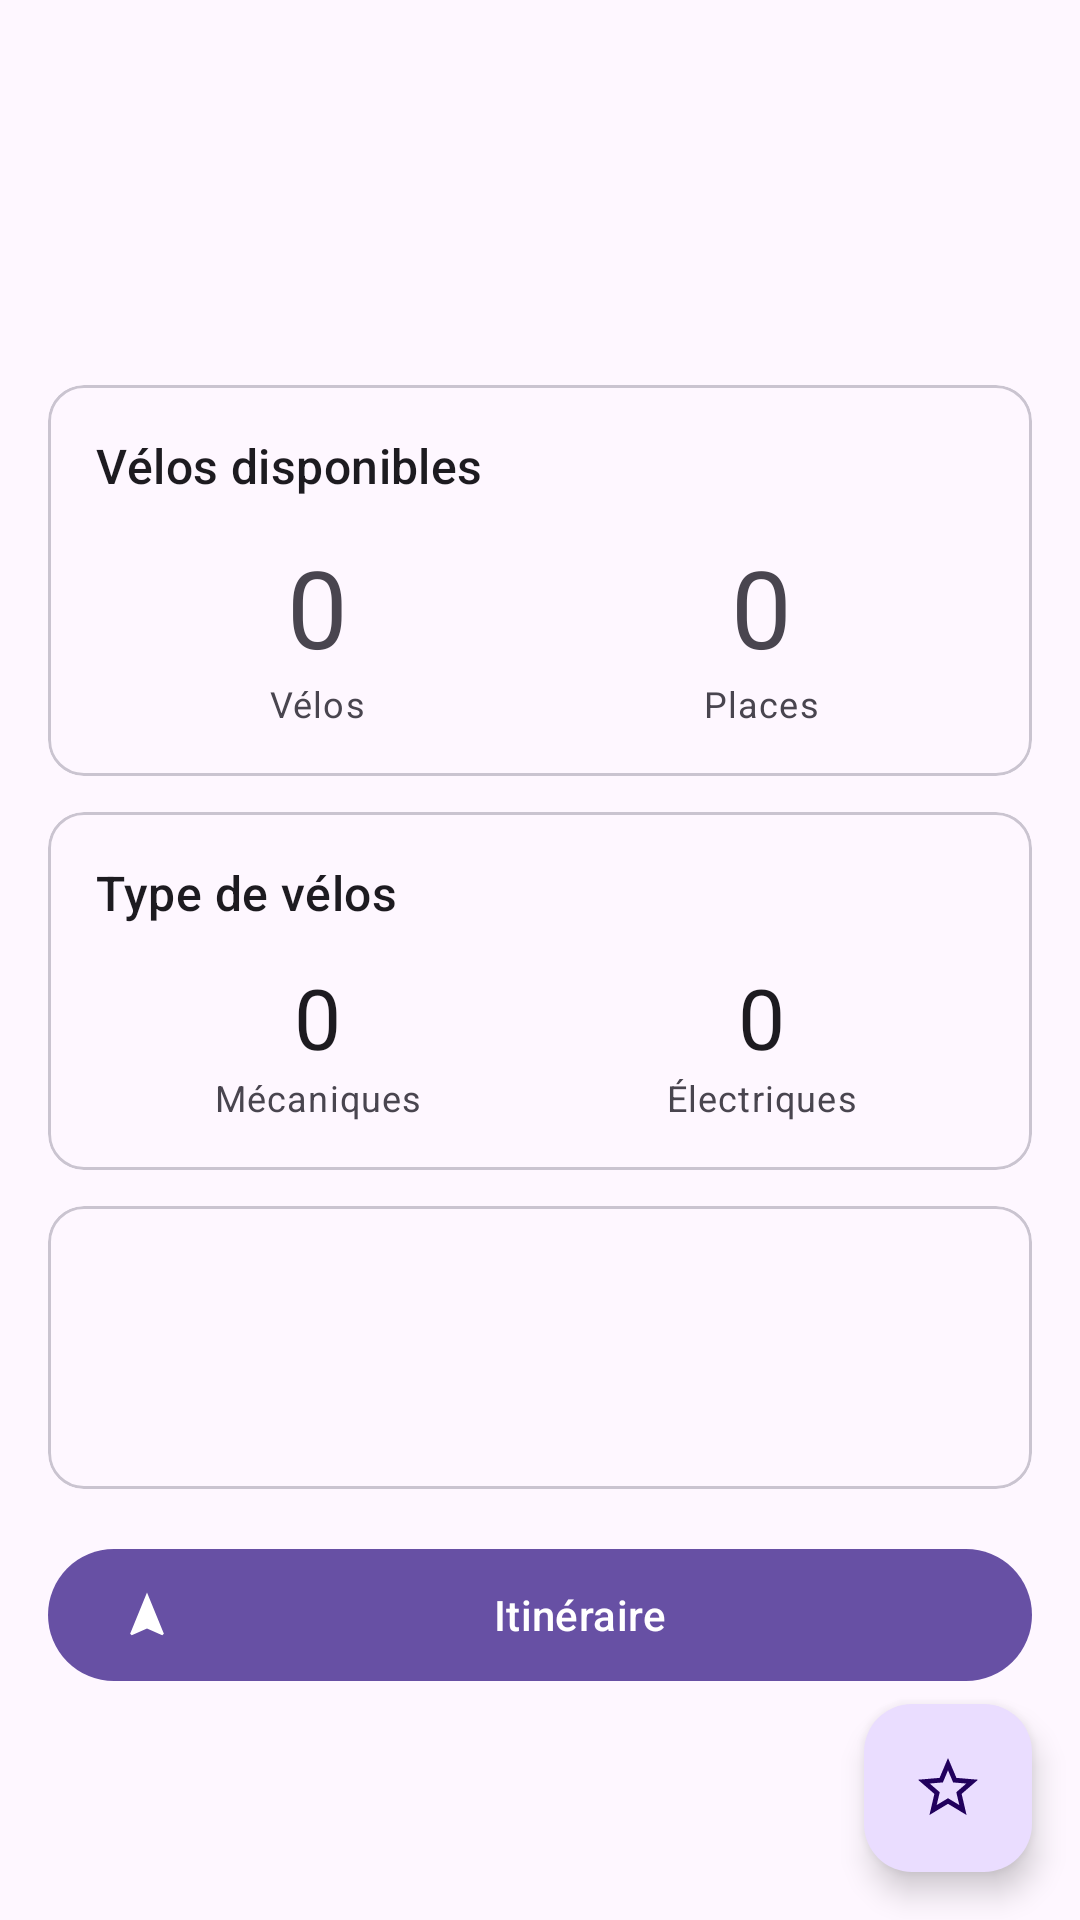

Icon click points for this 1080 x 1920 phone screenshot, format [x,y]:
Ajouter aux favoris: [948,1788]
